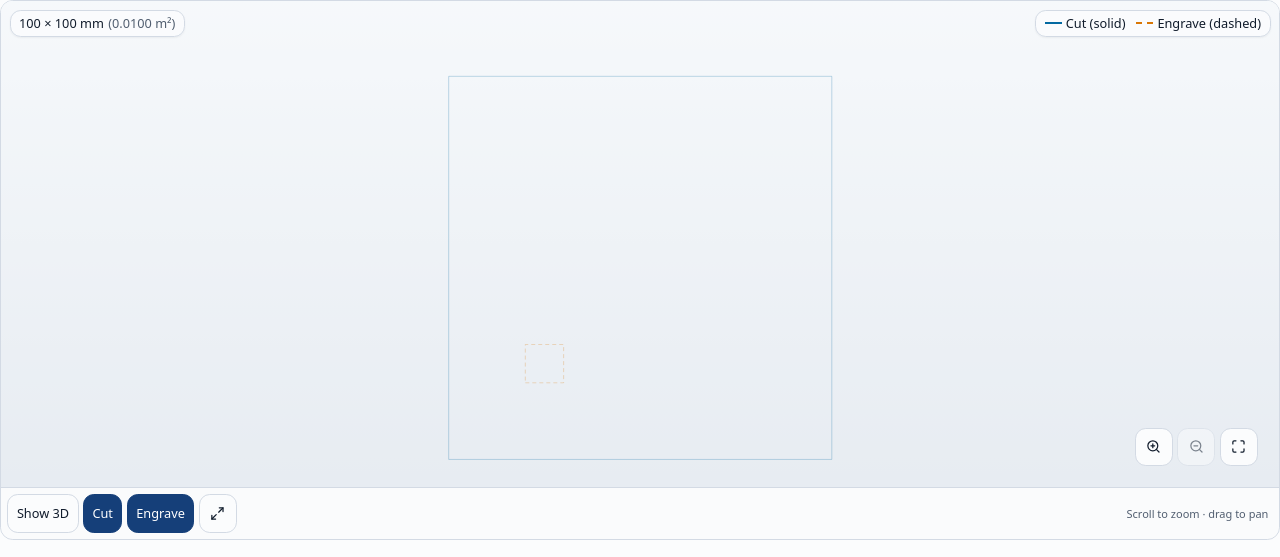
Test: DxfModelPreview 2D outline › zooms with the buttons and the keyboard and fits back
The width and height of the screenshot is (1280, 557).
Click the button named "Zoom in" at (1154, 447), box [1134, 428, 1173, 466]
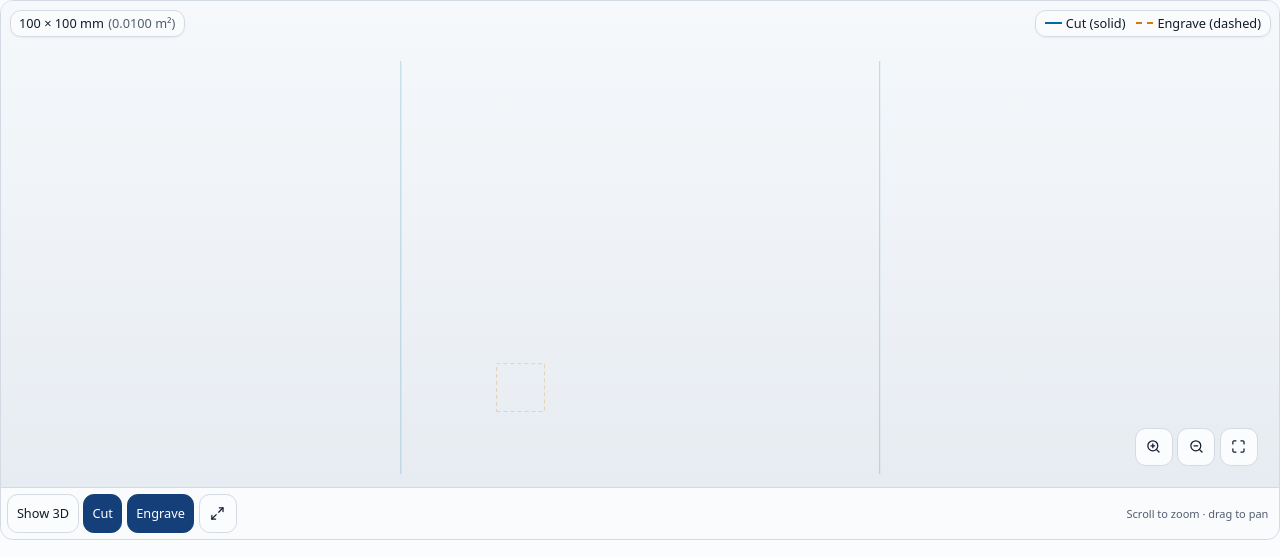
Press + in the picture with test id "dxf-preview-2d"
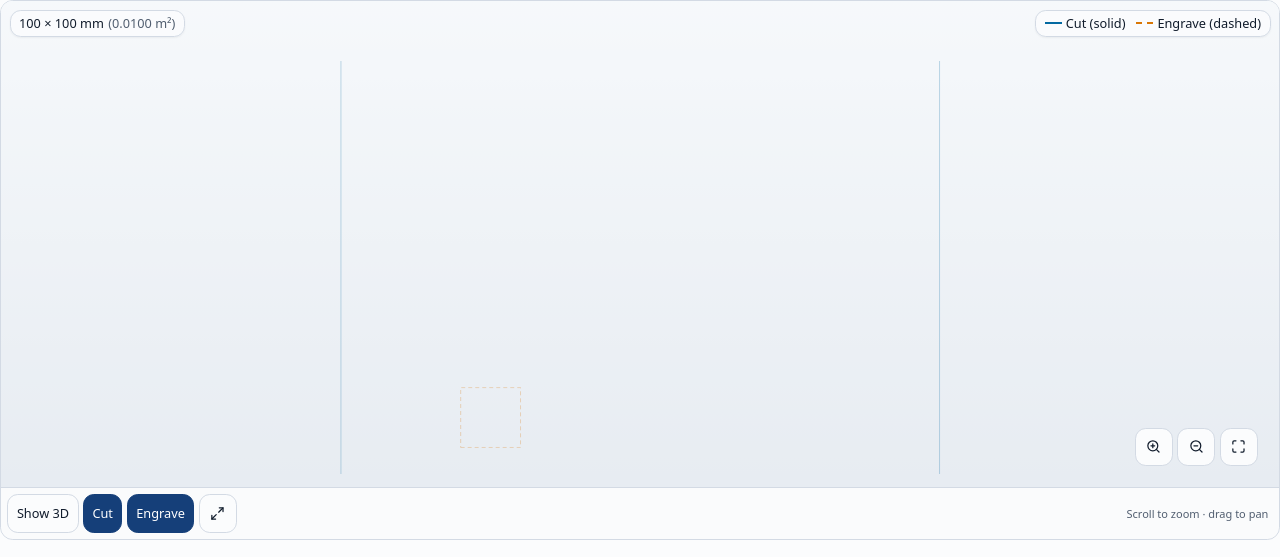
Click the button named "Fit the drawing" at (1239, 447), box [1220, 428, 1258, 466]
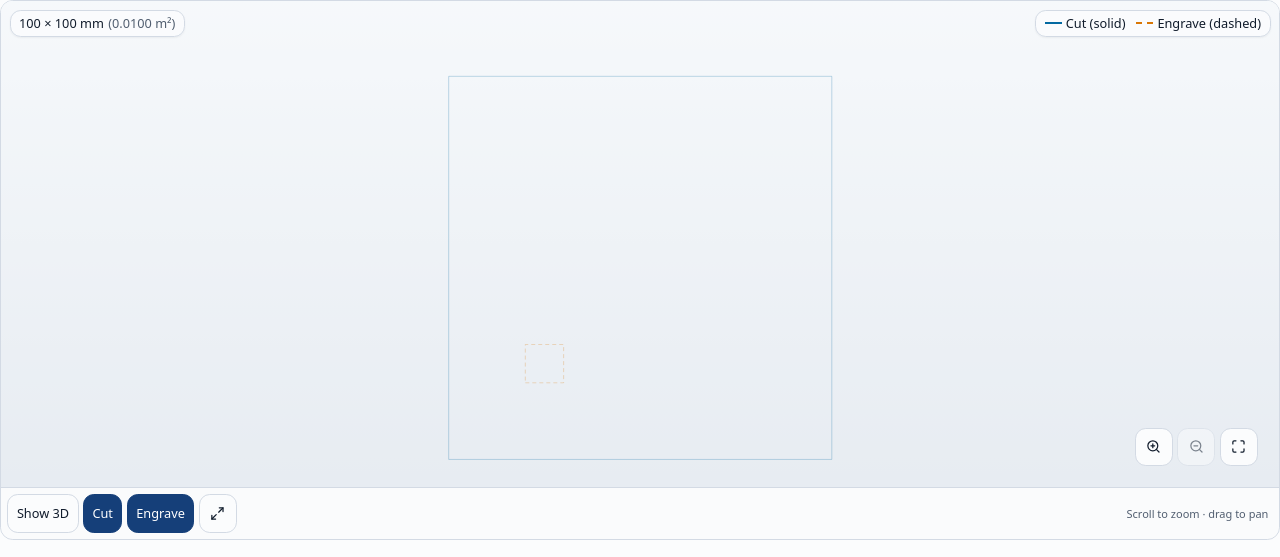
Check: the button named "Zoom out" is disabled, box [1177, 428, 1215, 466]
